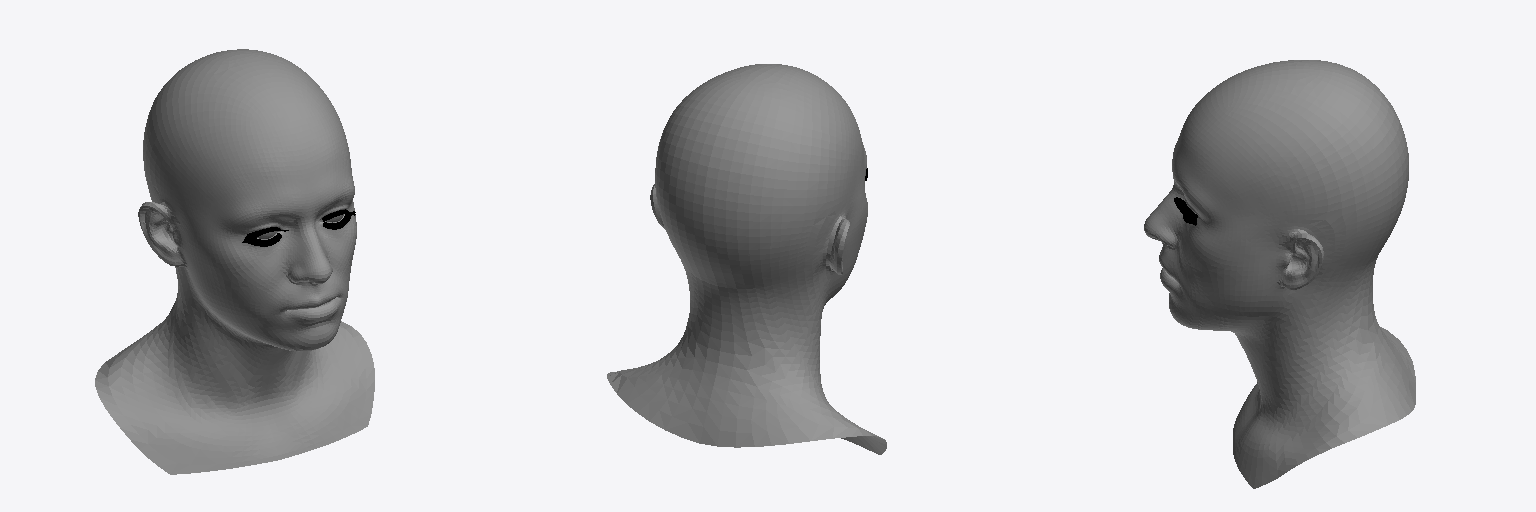
The model's file is jawLeft.obj.
3 views of the same model, side by side, from view 1: azimuth 30°, elevation 25°; view 2: azimuth 150°, elevation 25°; view 3: azimuth 270°, elevation 25° (orthographic).
Size of the model in its own units: 24.83 by 33.81 by 22.32.